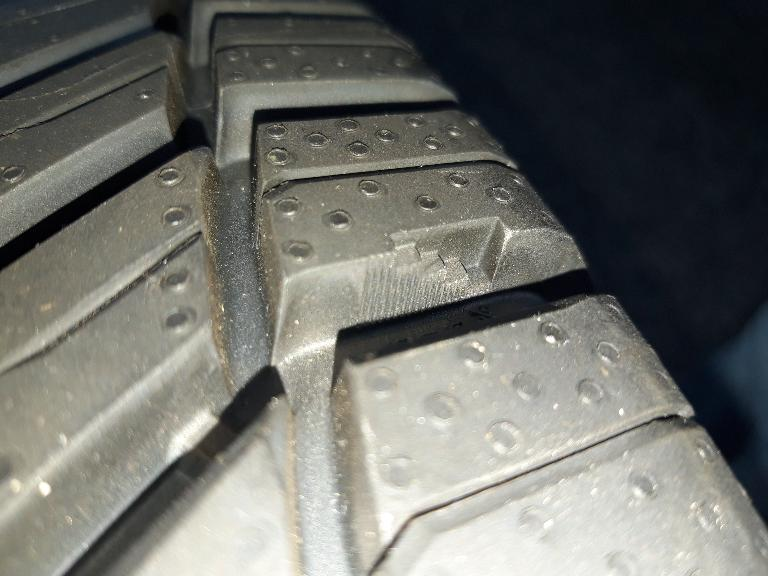temoin:100: (350, 212, 517, 335)
